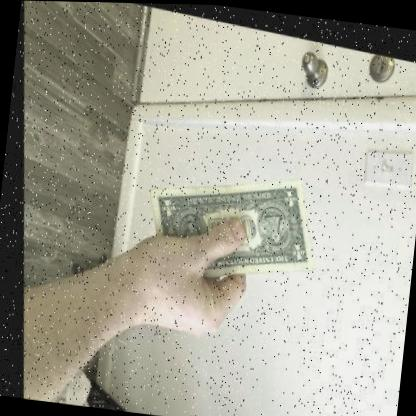dollar_back: (144, 173, 310, 273)
